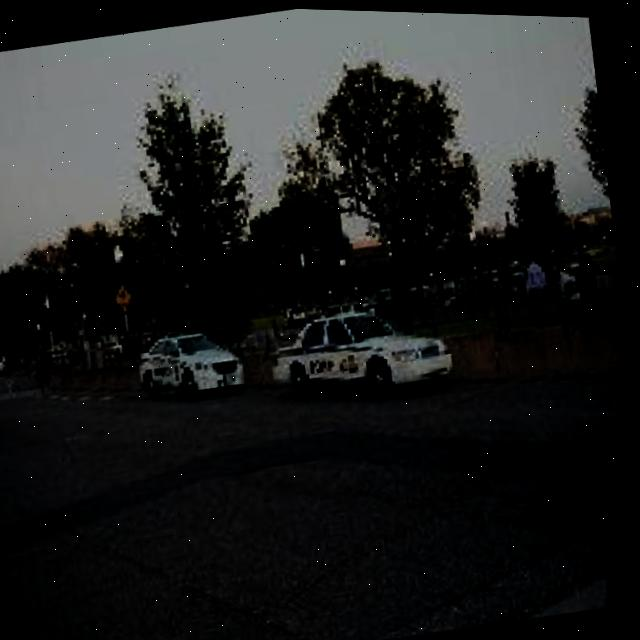emergency: (266, 279, 472, 419), (134, 313, 257, 412)
